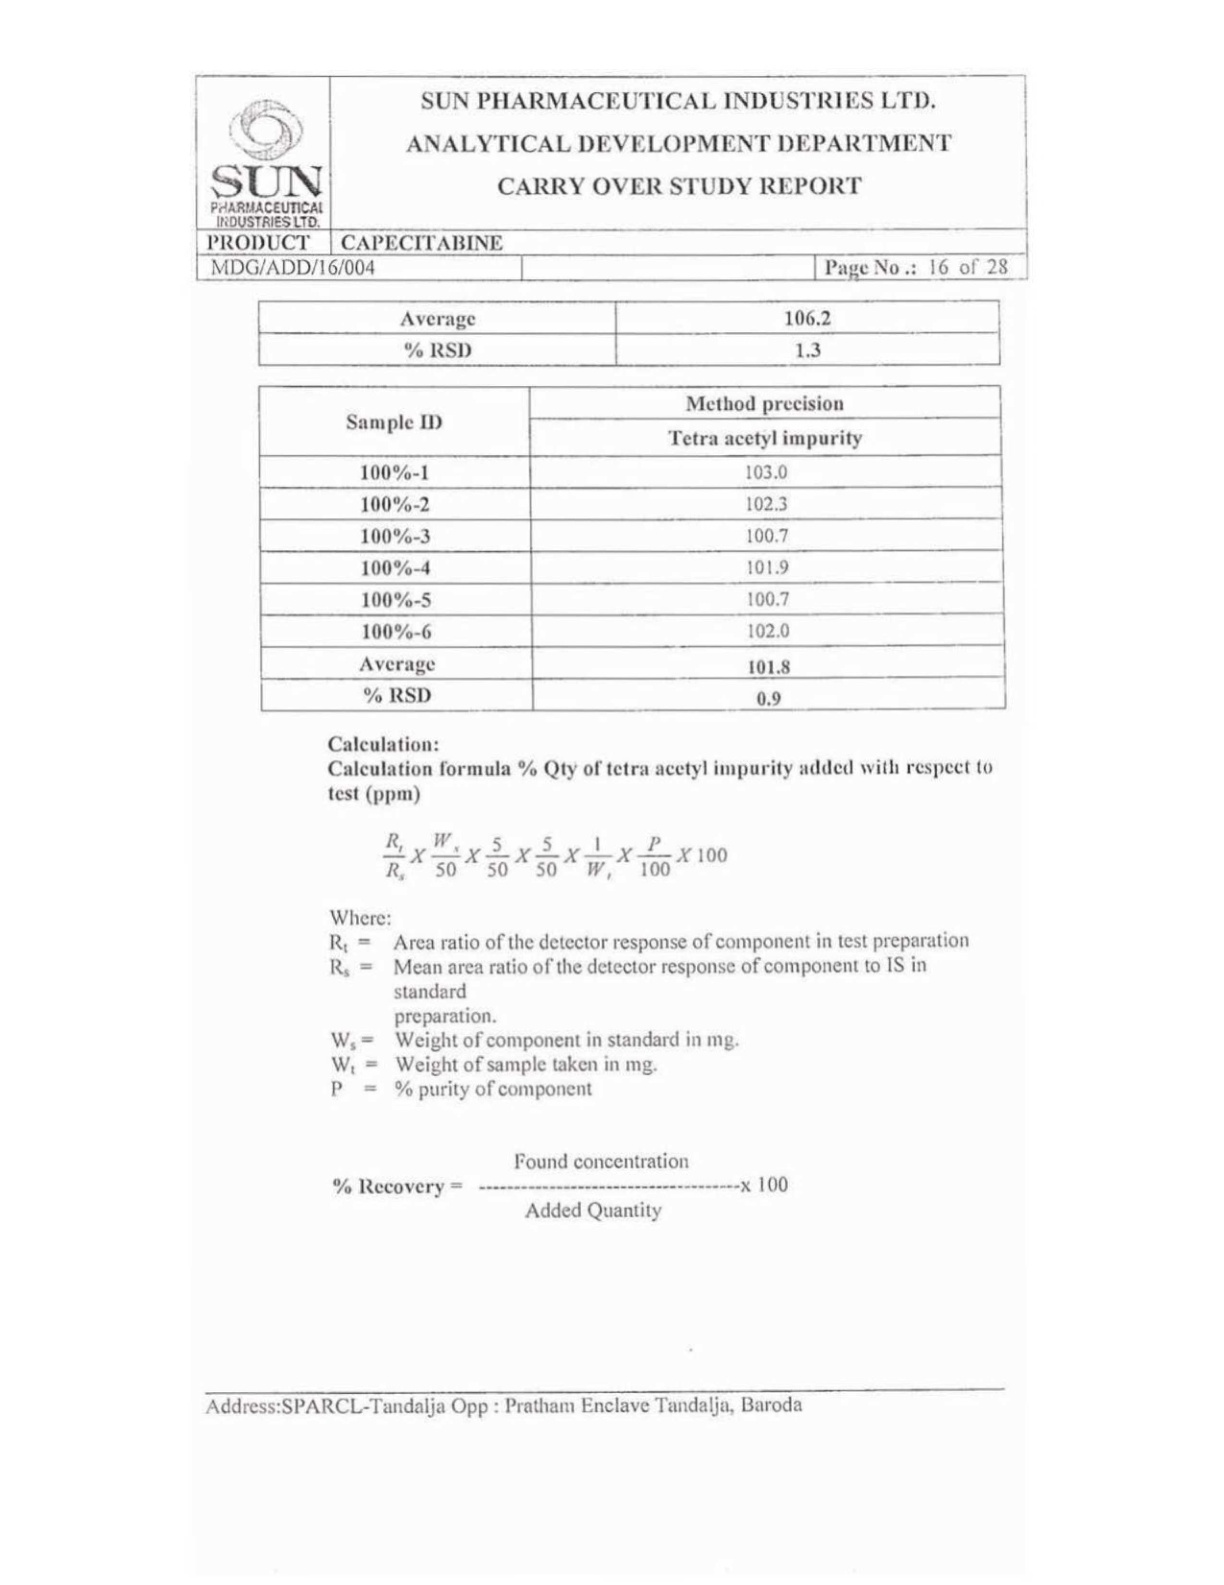full_lined: (257, 300, 1003, 366)
merged_cells: (257, 384, 1008, 711), (194, 73, 1031, 282)
